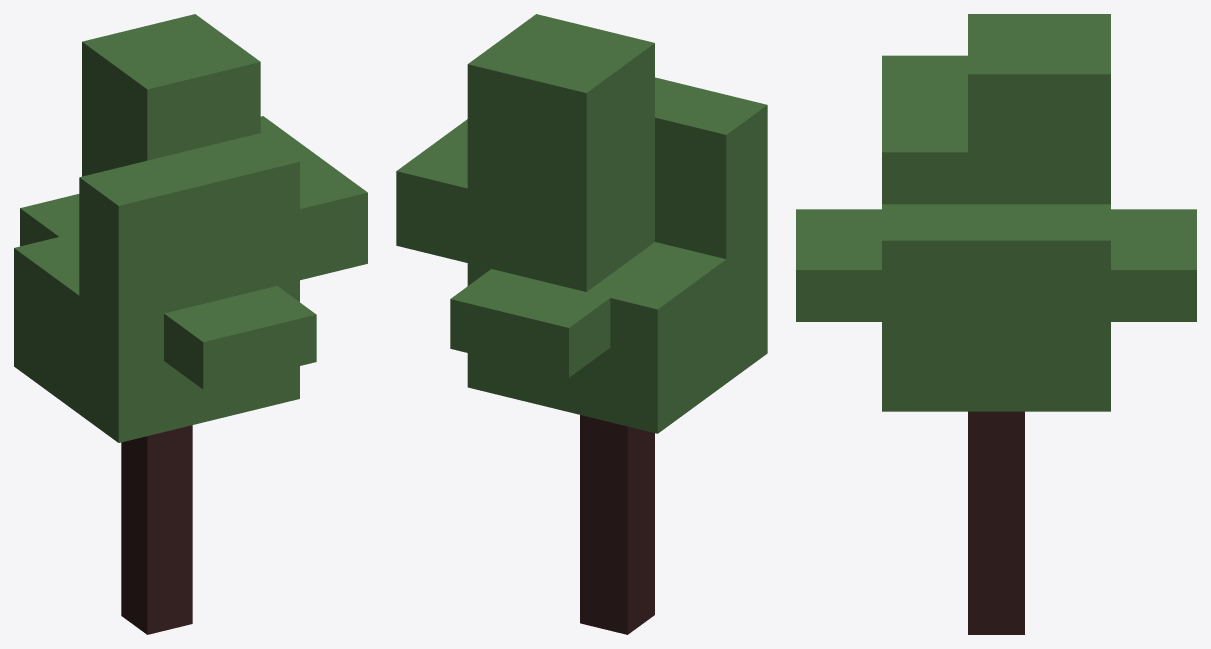
The model's file is Tree.glb.
3 views of the same model, side by side, from view 1: azimuth 30°, elevation 25°; view 2: azimuth 150°, elevation 25°; view 3: azimuth 270°, elevation 25° (orthographic). The views are drawn at different scales.
Visible parts, largest first — view 1: cube.001; view 2: cube.001; view 3: cube.001.
Part boxes in pixels (left/top/right/bottom): cube.001: left=14, top=14, right=367, bottom=634; cube.001: left=396, top=14, right=767, bottom=634; cube.001: left=796, top=14, right=1196, bottom=634.
Size of the model in its own units: 7.04 by 14.72 by 8.96.
1 material, 1 textured.
